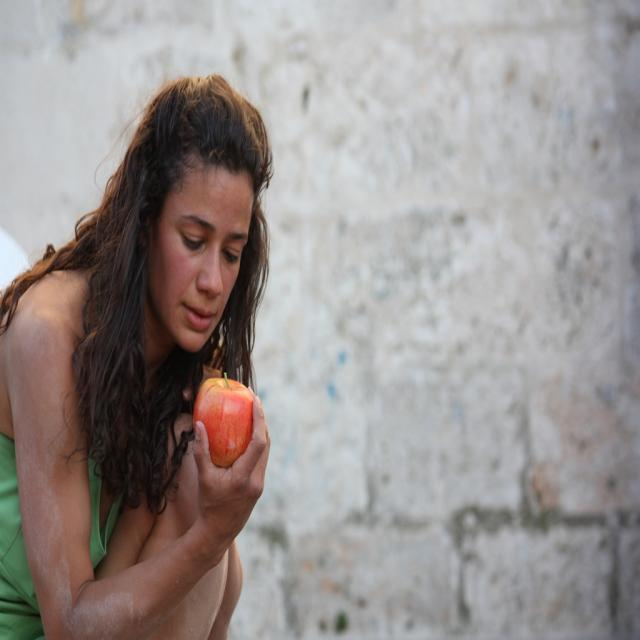Healty Apple: (185, 378, 260, 483)
